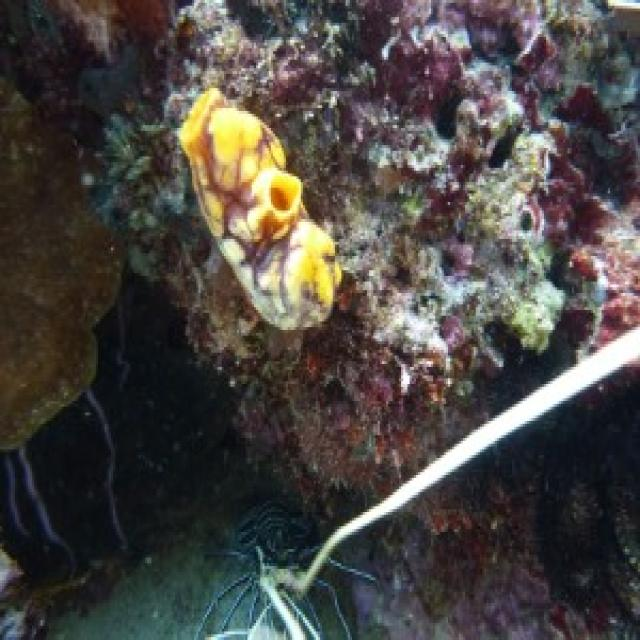lobsters: (191, 502, 370, 636)
